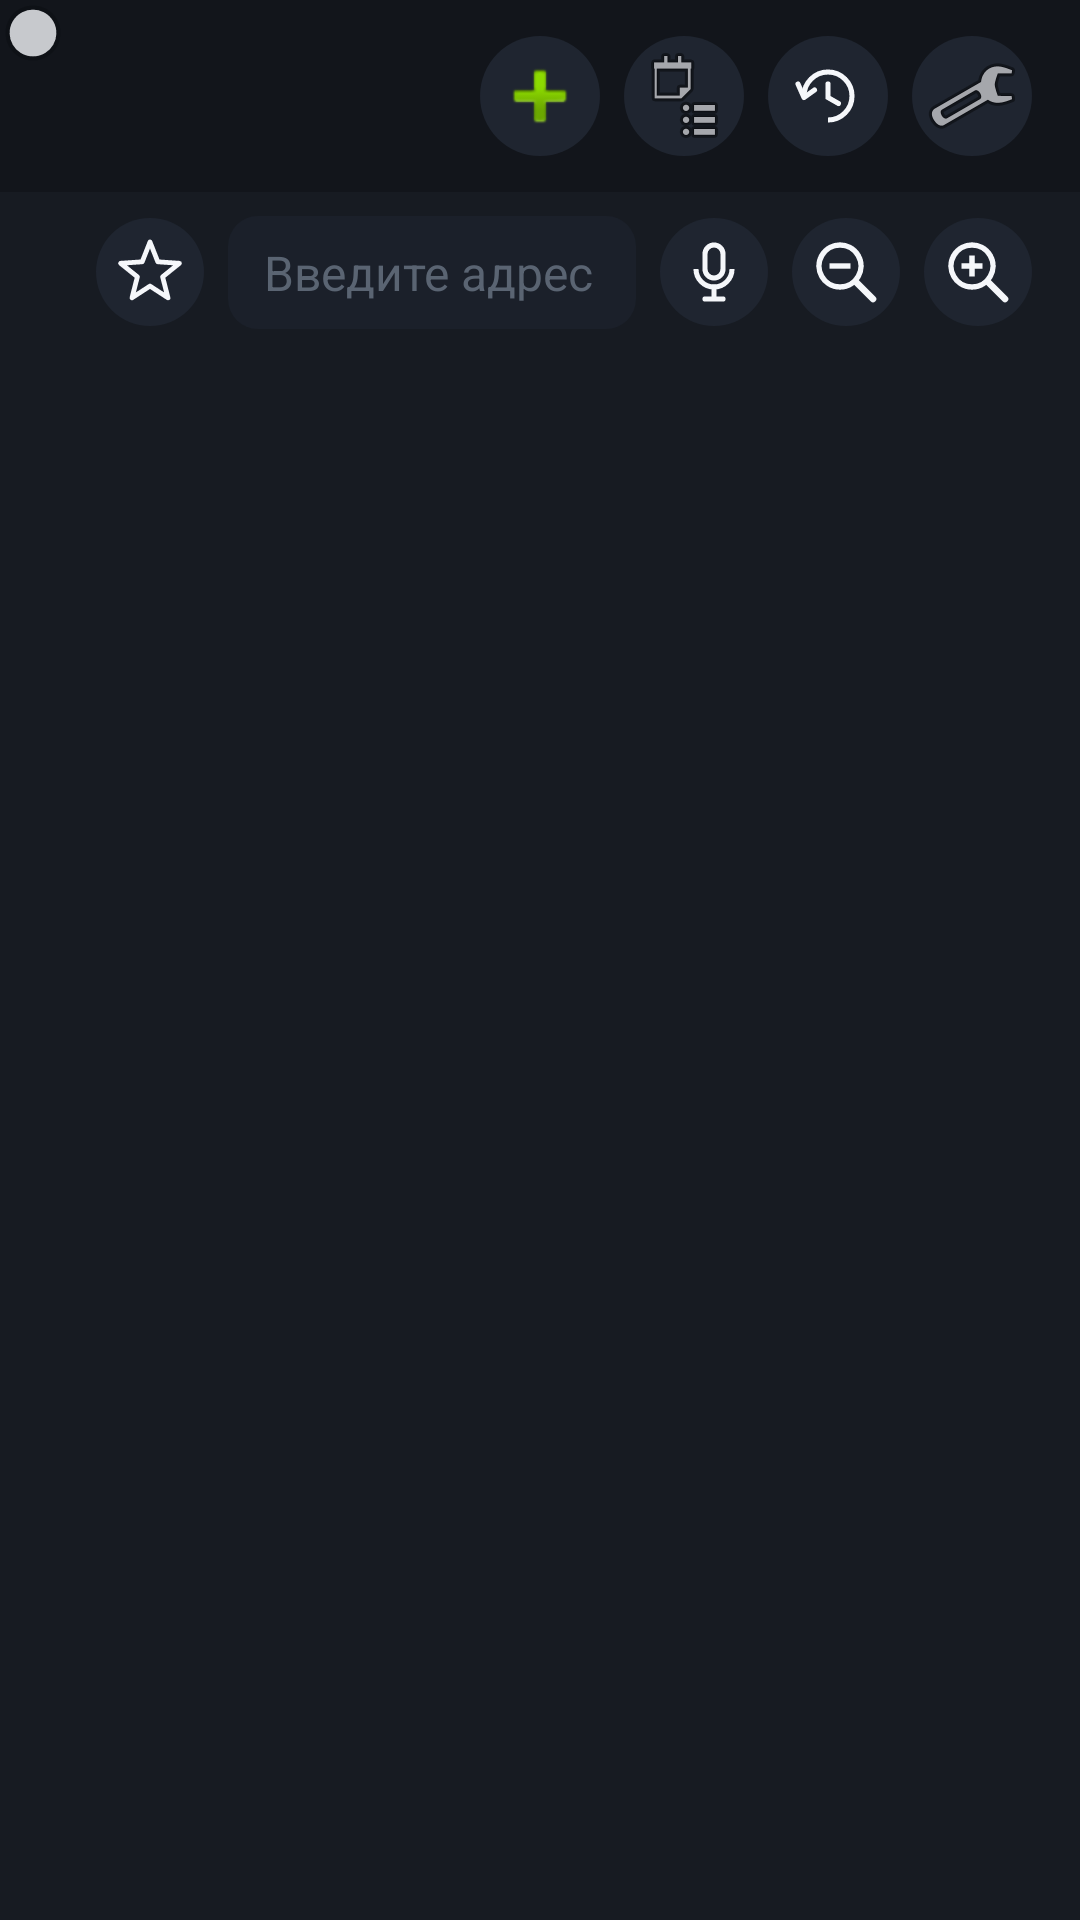

Locate icon controls on the screen. Image size 1080 x 1920, boxes as region(x1, y1, x2, y2).
Добавить в закладки: region(96, 218, 204, 326)
Закладки: region(654, 56, 715, 135)
История: region(768, 36, 888, 156)
Настройки: region(912, 36, 1032, 156)
Новая вкладка: region(480, 36, 600, 156)
Увеличить страницу: region(924, 218, 1032, 326)
Уменьшить страницу: region(792, 218, 900, 326)
